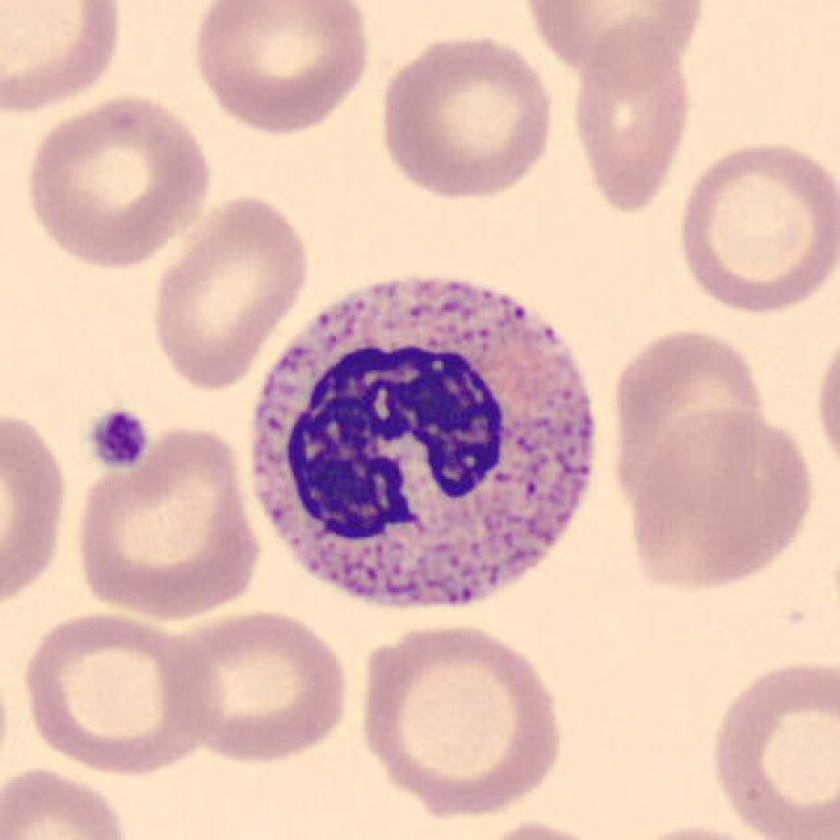neutrophil: (253, 279, 592, 606)
